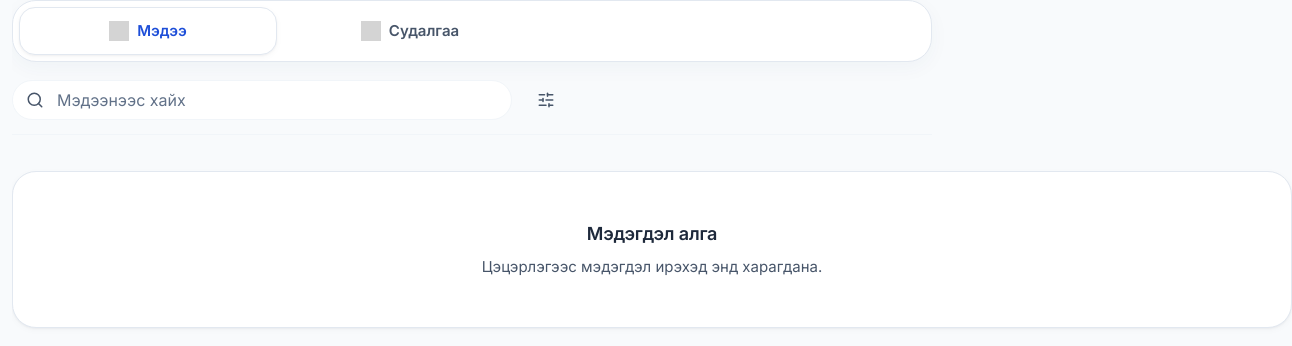
Scenario: communications redesign › shows surveys only for the child selected in the parent menu
The image size is (1292, 346).
Click the tab "Судалгаа": point(410, 31) x1=281 y1=7 x2=539 y2=55
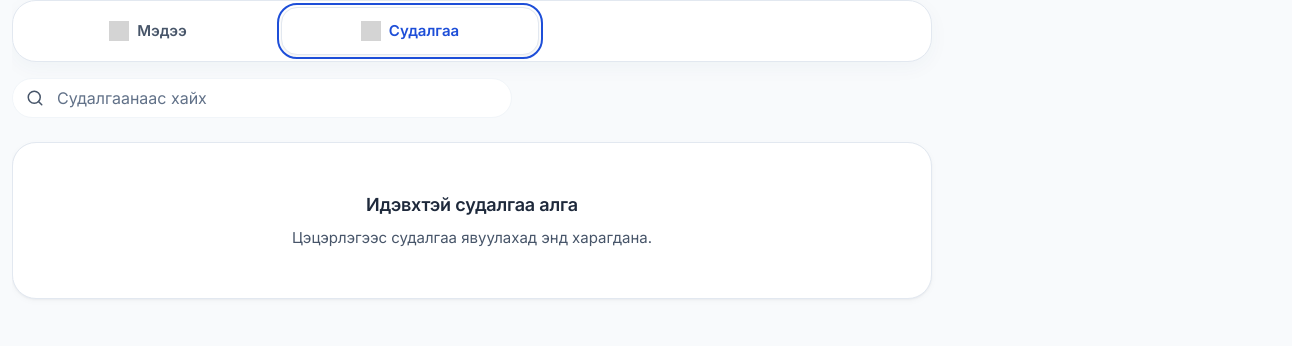
Now the text "Идэвхтэй судалгаа алга" is shown, box x1=366 y1=191 x2=578 y2=218
